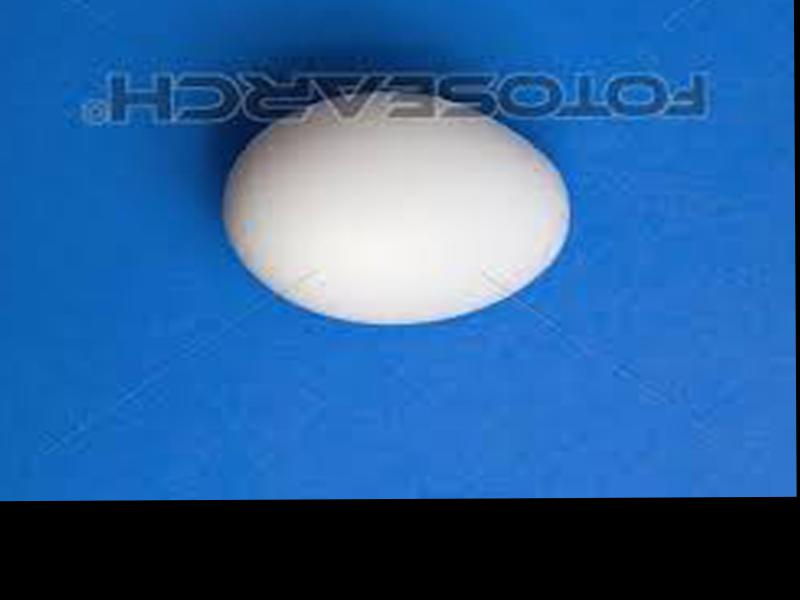Eggs: (222, 83, 569, 324)
